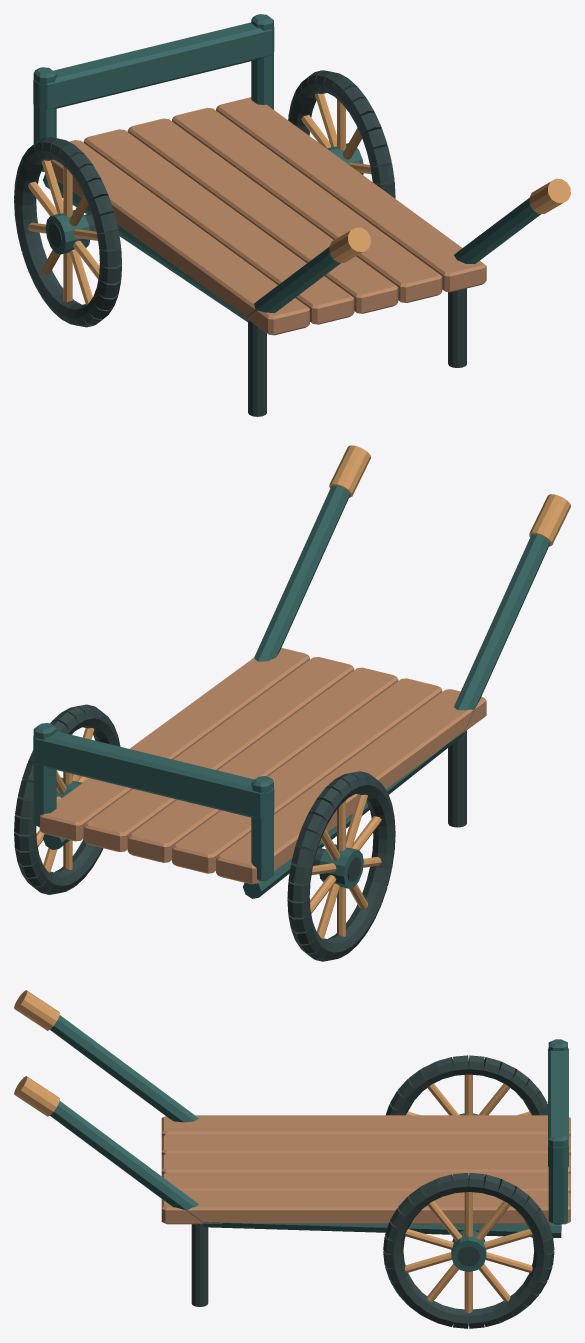
File: PortersBarrow.glb
3 views of the same model, one above another, from view 1: azimuth 30°, elevation 25°; view 2: azimuth 150°, elevation 25°; view 3: azimuth 270°, elevation 25° (orthographic). The views are drawn at different scales.
Visible parts, largest first — view 1: PortersBarrow; view 2: PortersBarrow; view 3: PortersBarrow.
Part boxes in pixels (bbox=[...]): PortersBarrow: bbox=[14, 14, 570, 416]; PortersBarrow: bbox=[14, 445, 570, 961]; PortersBarrow: bbox=[14, 990, 570, 1328].
Bounding box in the file's own units: 1.02 × 0.8696 × 1.86.
